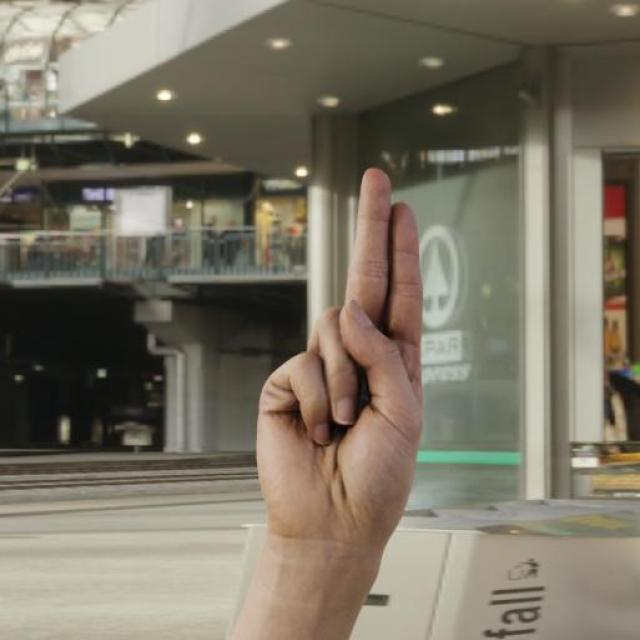U: (251, 164, 438, 540)
